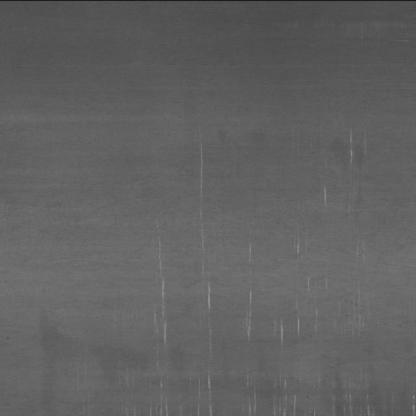waist_folding: (117, 216, 386, 416)
